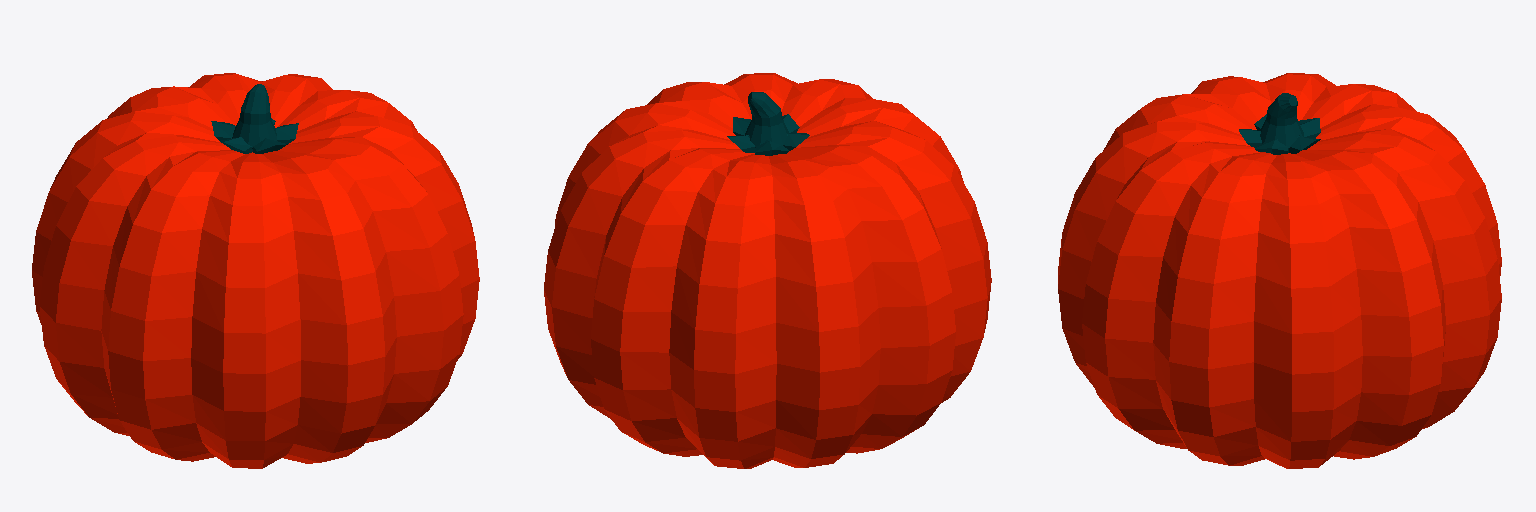
File: pumpkinLarge.obj
The picture shows the model from 3 angles: view 1: azimuth 30°, elevation 25°; view 2: azimuth 150°, elevation 25°; view 3: azimuth 270°, elevation 25°; orthographic projection.
Visible parts, largest first — view 1: pumpkinLarge_Sphere; view 2: pumpkinLarge_Sphere; view 3: pumpkinLarge_Sphere.
Boxes of the visible parts, x1,y1,x2,y2 form: pumpkinLarge_Sphere: [32, 73, 479, 468]; pumpkinLarge_Sphere: [544, 73, 991, 468]; pumpkinLarge_Sphere: [1058, 73, 1501, 468].
Size of the model in its own units: 0.9611 by 0.7811 by 0.9513.